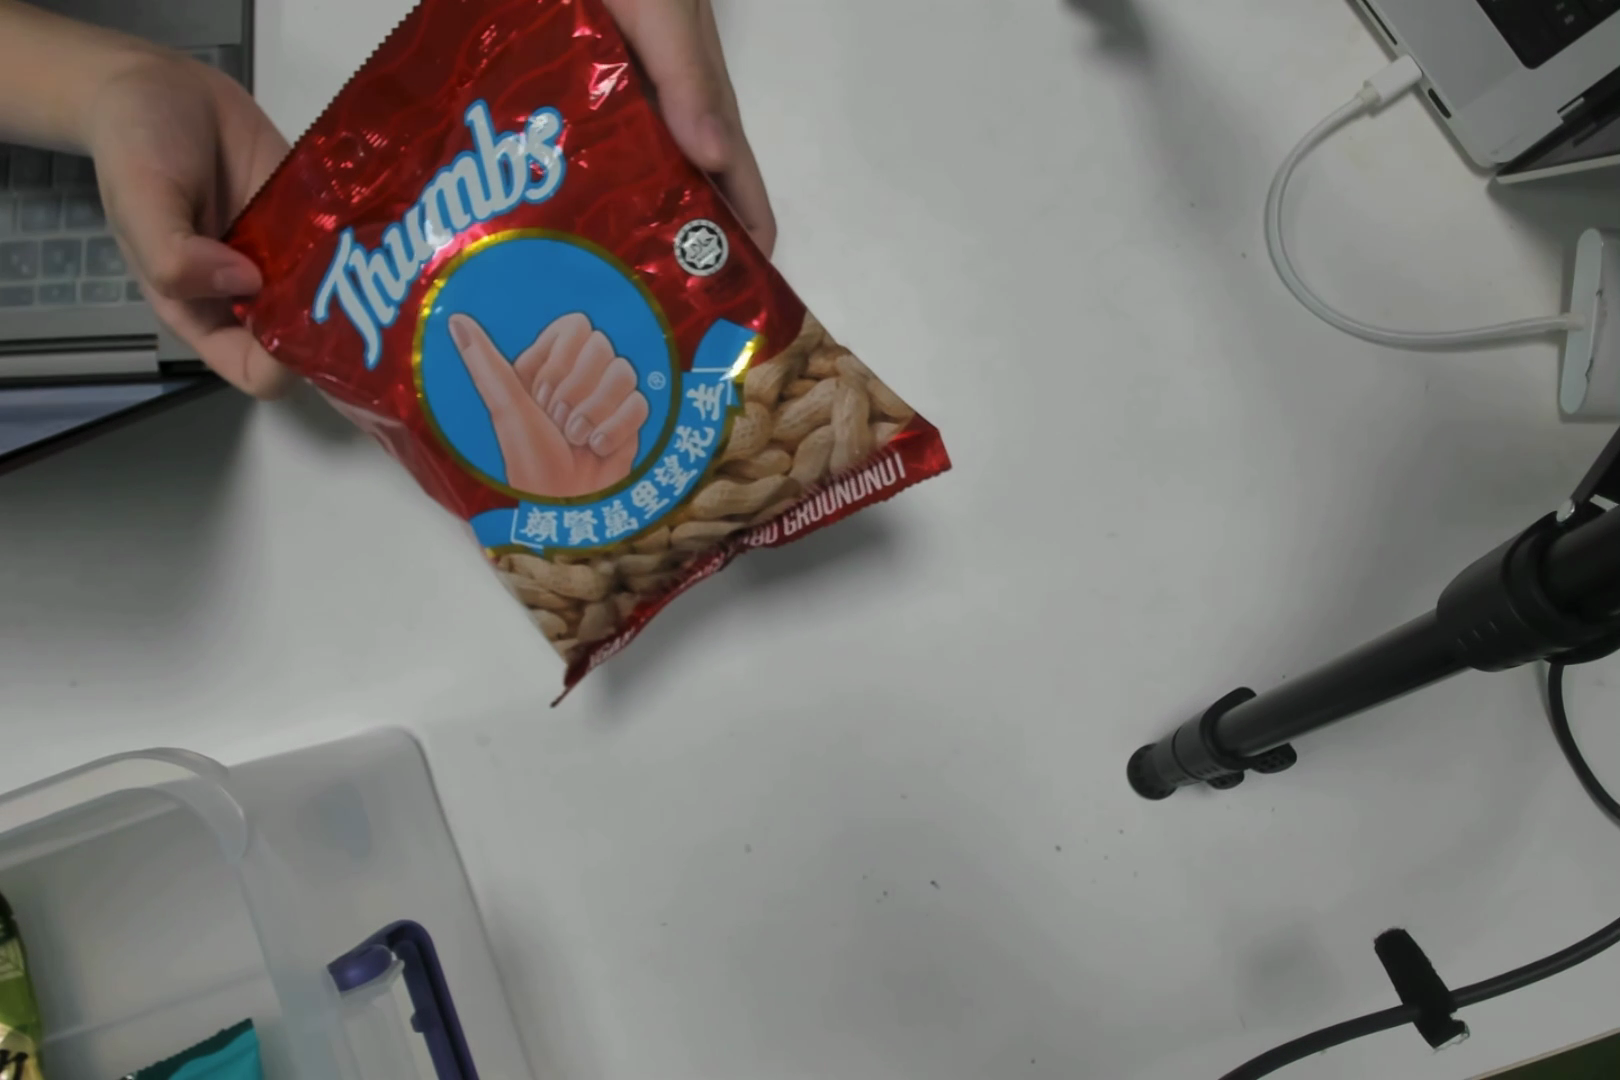Nuts_100-199g_Halal_NonHealthy: (363, 76, 837, 622)
